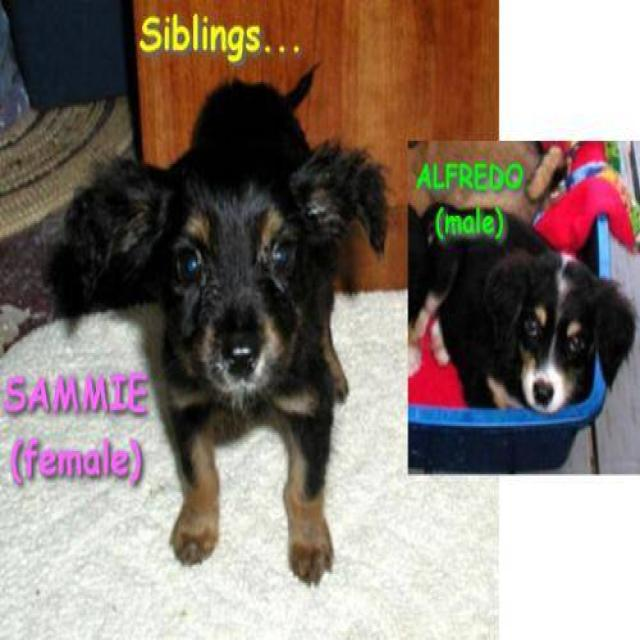dog: (45, 59, 389, 586), (407, 198, 636, 415)
